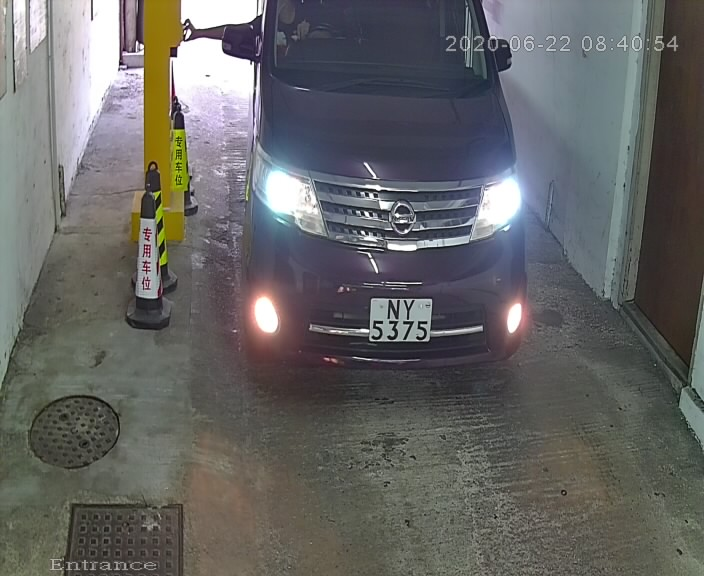privatecar: (206, 1, 587, 397)
